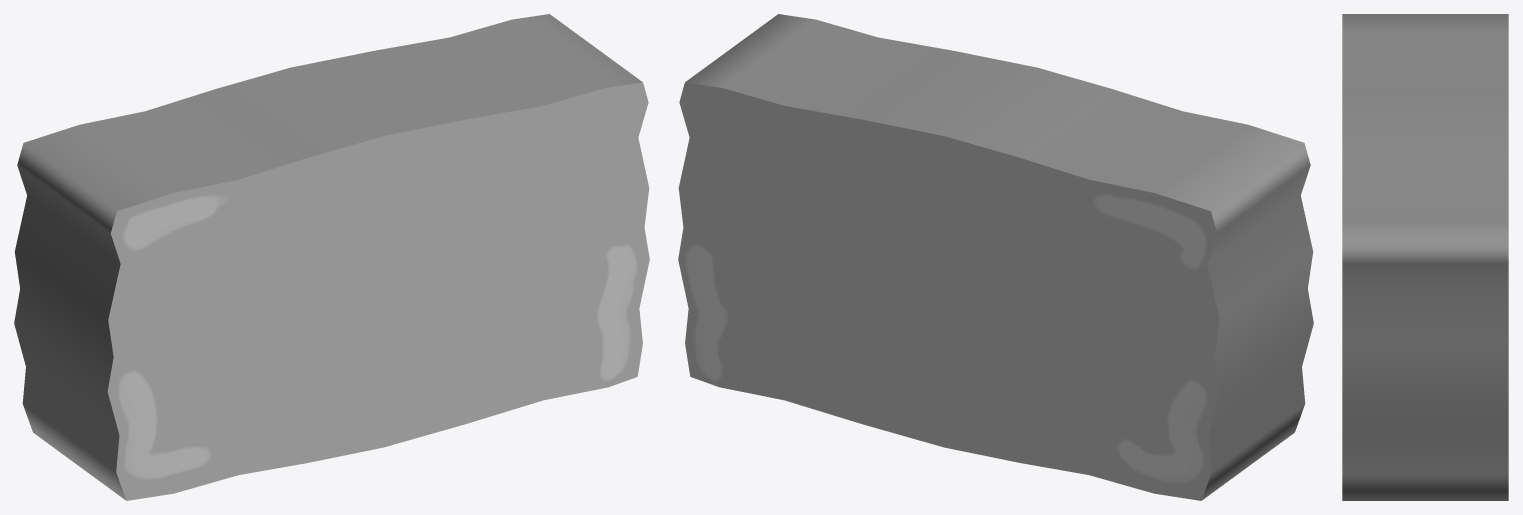
File: mesh_Fetta_v1.0.fbx
3 renders of one model, left to right at view 1: azimuth 30°, elevation 25°; view 2: azimuth 150°, elevation 25°; view 3: azimuth 270°, elevation 25°, orthographic. The views are drawn at different scales.
Parts seen in each view (by area): view 1: pCube16; view 2: pCube16; view 3: pCube16.
Part boxes in pixels (bbox=[...]): pCube16: bbox=[14, 14, 649, 500]; pCube16: bbox=[678, 14, 1313, 500]; pCube16: bbox=[1342, 14, 1508, 500].
Bounding box in the file's own units: 97.39 × 53.44 × 29.08.
